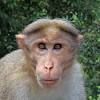monkey: (4, 10, 96, 93)
